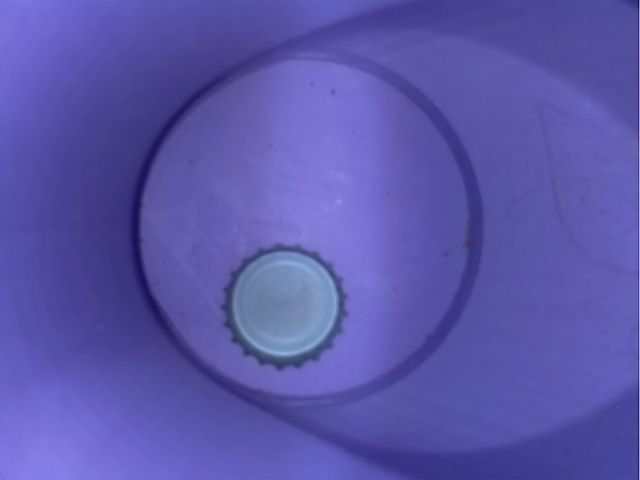capsule: (212, 236, 357, 384)
